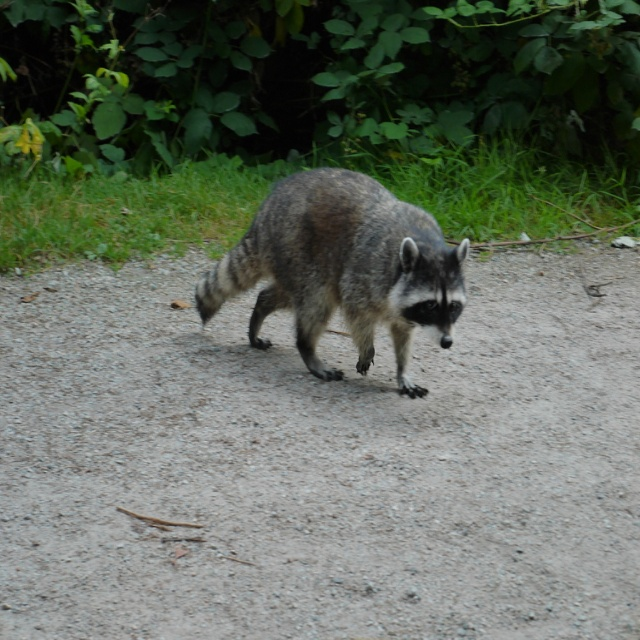Raccoon: (196, 168, 466, 398)
